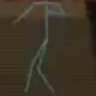hacks_2: (12, 1, 64, 96)
